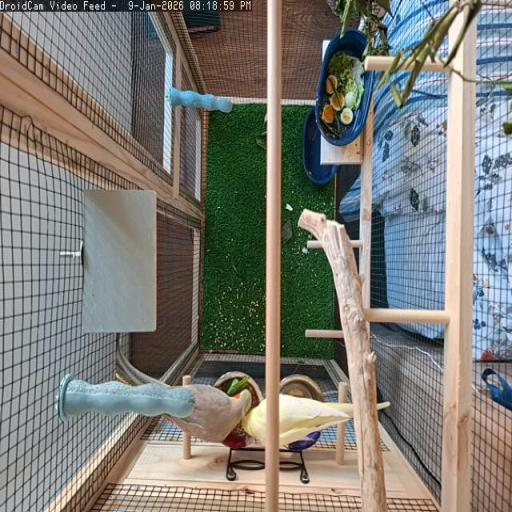bebedero: (280, 374, 326, 418)
comedero: (217, 371, 260, 448)
ninfa: (138, 333, 245, 435), (279, 388, 356, 450), (238, 379, 267, 433)
